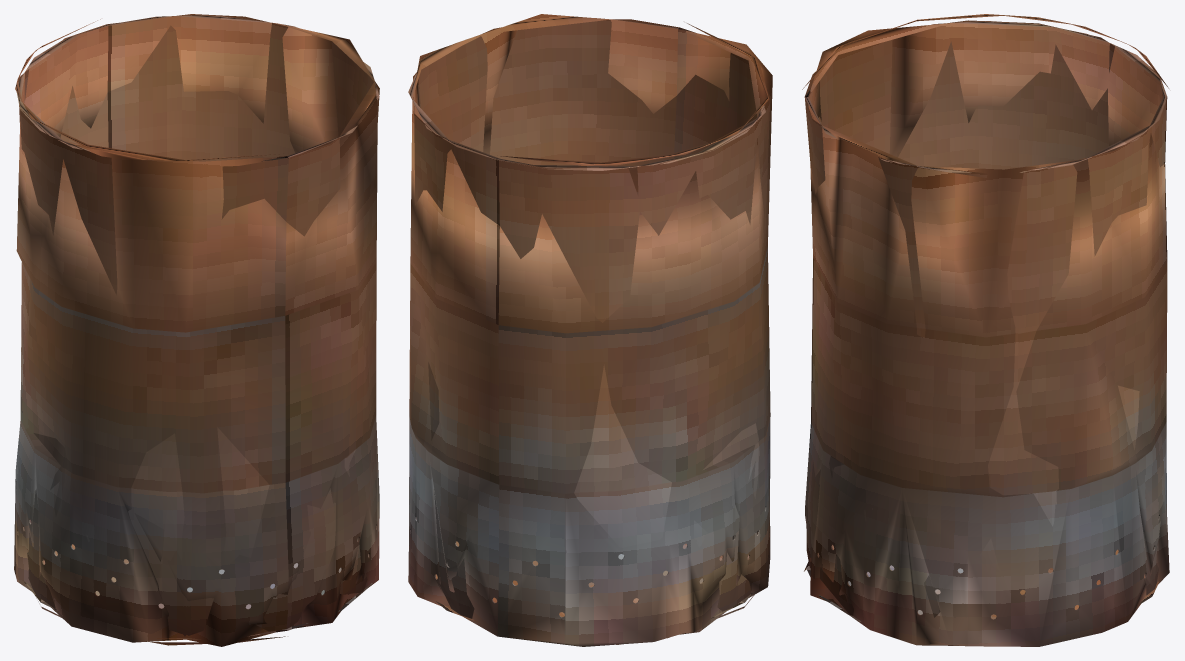
File: barrel_stove.glb
3 views of the same model, side by side, from view 1: azimuth 30°, elevation 25°; view 2: azimuth 150°, elevation 25°; view 3: azimuth 270°, elevation 25° (orthographic).
Visible parts, largest first — view 1: barrel_stove; view 2: barrel_stove; view 3: barrel_stove.
Boxes of the visible parts, box(x1,y1,x2,y2) form: barrel_stove: box(14, 14, 379, 646); barrel_stove: box(408, 14, 772, 646); barrel_stove: box(802, 14, 1169, 646).
Size of the model in its own units: 0.5839 by 0.8539 by 0.5887.
1 material, 1 textured.
